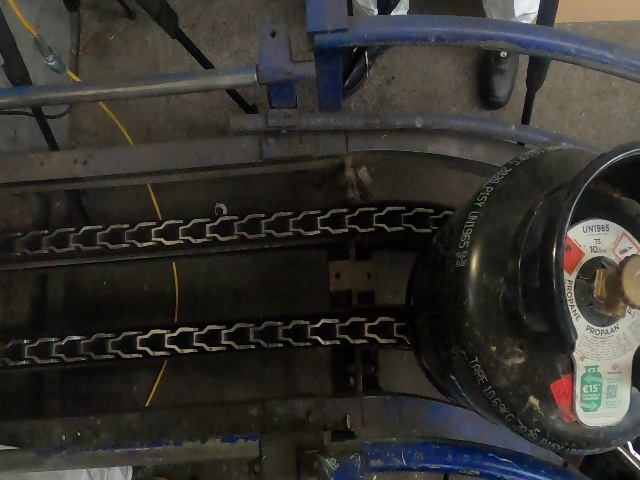gas_bottle: (0, 1, 634, 473)
